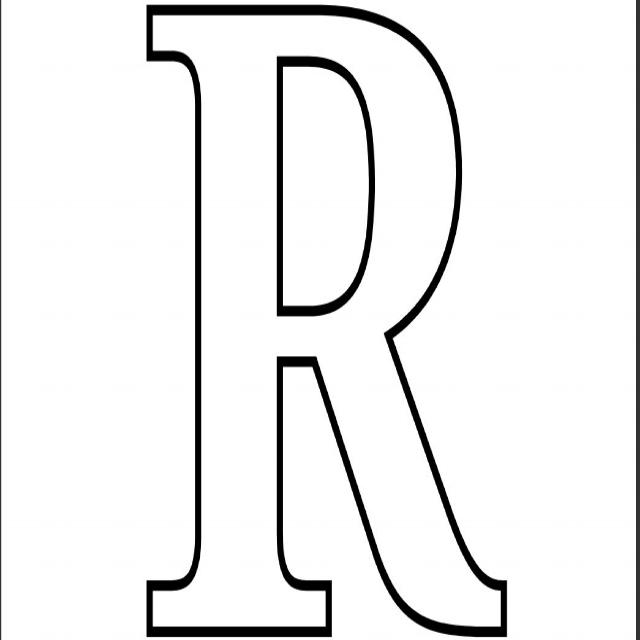R: (112, 0, 542, 640)
